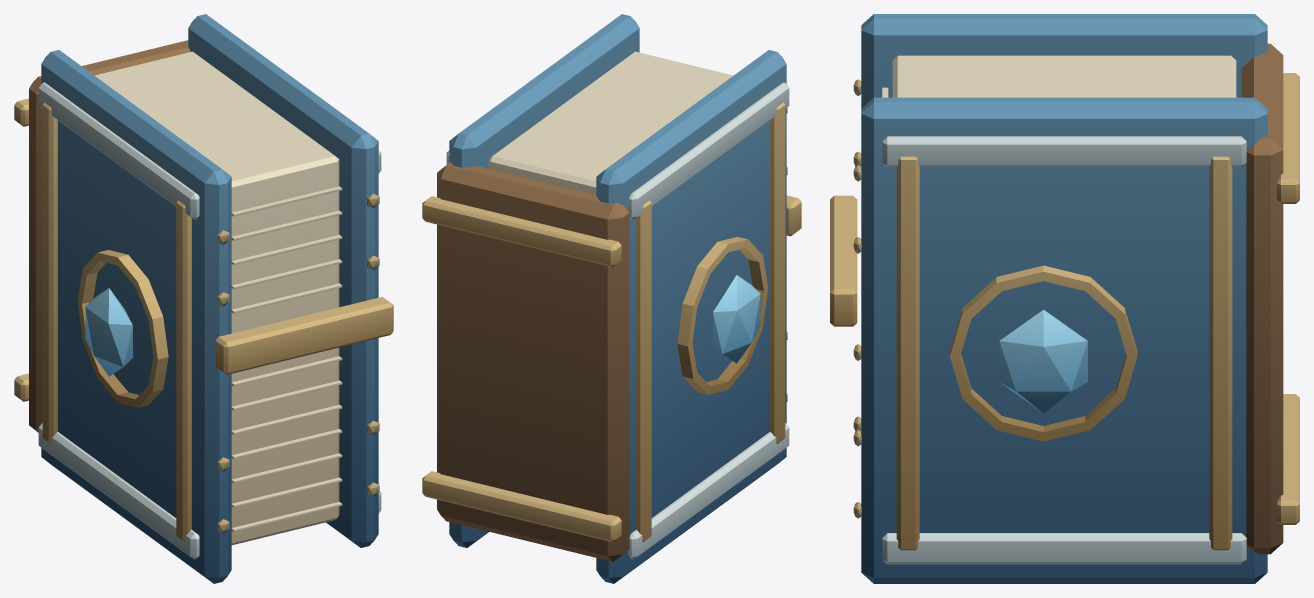
Rendered from codice_guardian_alba.glb.
The picture shows the model from 3 angles, left to right: view 1: azimuth 30°, elevation 25°; view 2: azimuth 150°, elevation 25°; view 3: azimuth 270°, elevation 25°; orthographic projection. The views are drawn at different scales.
Visible parts, largest first — view 1: codice_guardian_alba_finished; view 2: codice_guardian_alba_finished; view 3: codice_guardian_alba_finished.
Part boxes in pixels (x1,y1,x2,y2): codice_guardian_alba_finished: (14,14,393,583); codice_guardian_alba_finished: (422,14,801,583); codice_guardian_alba_finished: (830,14,1299,583).
Size of the model in its own units: 0.3234 by 0.51 by 0.451.
Materials: 2 (2 with a texture image).
